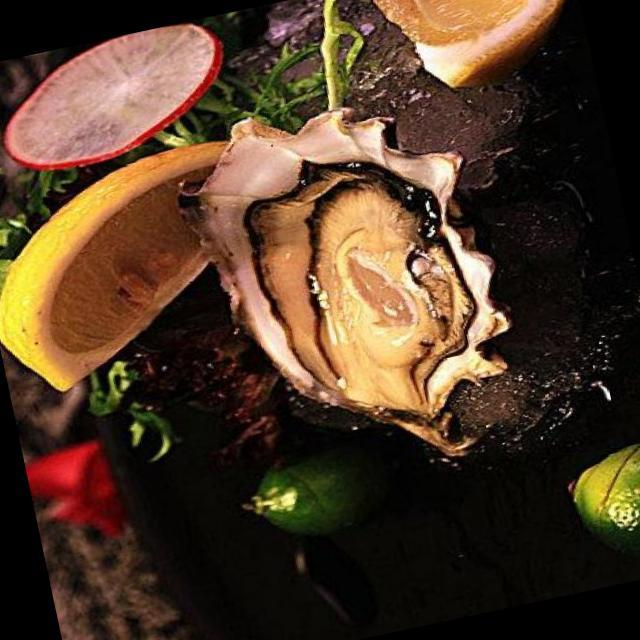Oyster-Open: (152, 70, 536, 510)
